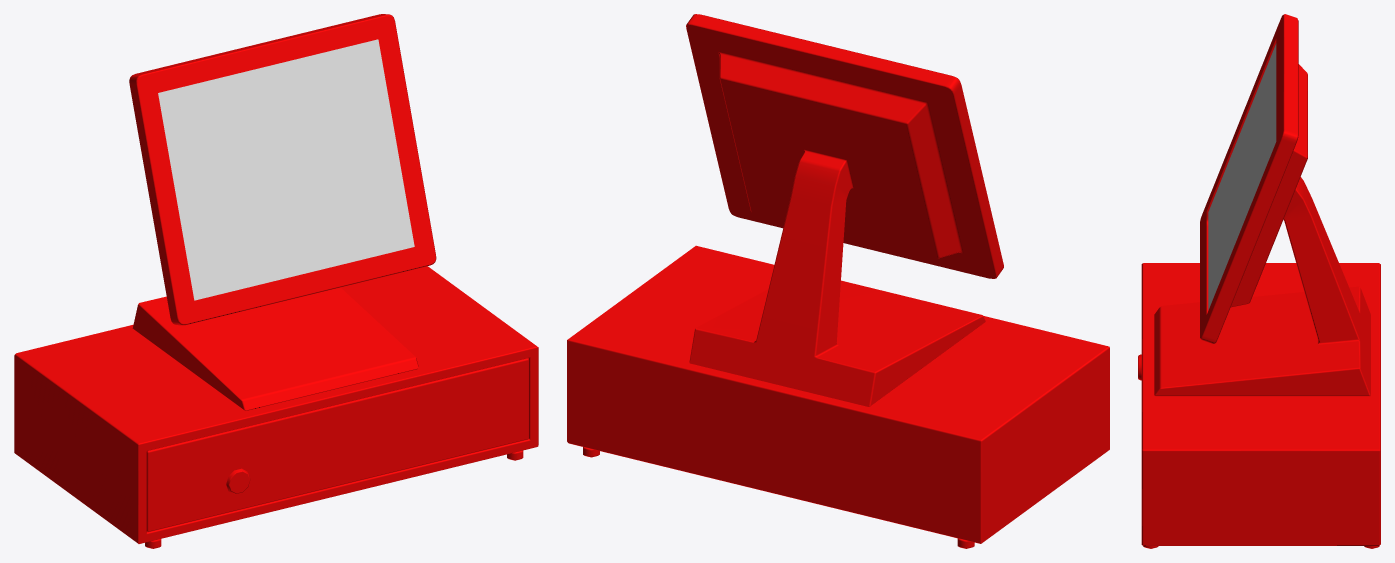
File: CashMachine_lazhgf.fbx
3 views of the same model, side by side, from view 1: azimuth 30°, elevation 25°; view 2: azimuth 150°, elevation 25°; view 3: azimuth 270°, elevation 25° (orthographic). The views are drawn at different scales.
Visible parts, largest first — view 1: CashMachine_lazhgf, CashMachineScreen_lazhgf; view 2: CashMachine_lazhgf; view 3: CashMachine_lazhgf, CashMachineScreen_lazhgf.
Boxes of the visible parts, x1,y1,x2,y2 form: CashMachine_lazhgf: (14, 14, 538, 548); CashMachineScreen_lazhgf: (158, 39, 414, 300); CashMachine_lazhgf: (567, 14, 1109, 548); CashMachine_lazhgf: (1138, 14, 1380, 548); CashMachineScreen_lazhgf: (1208, 43, 1276, 310).
Bounding box in the file's own units: 65 × 62.84 × 35.55.
